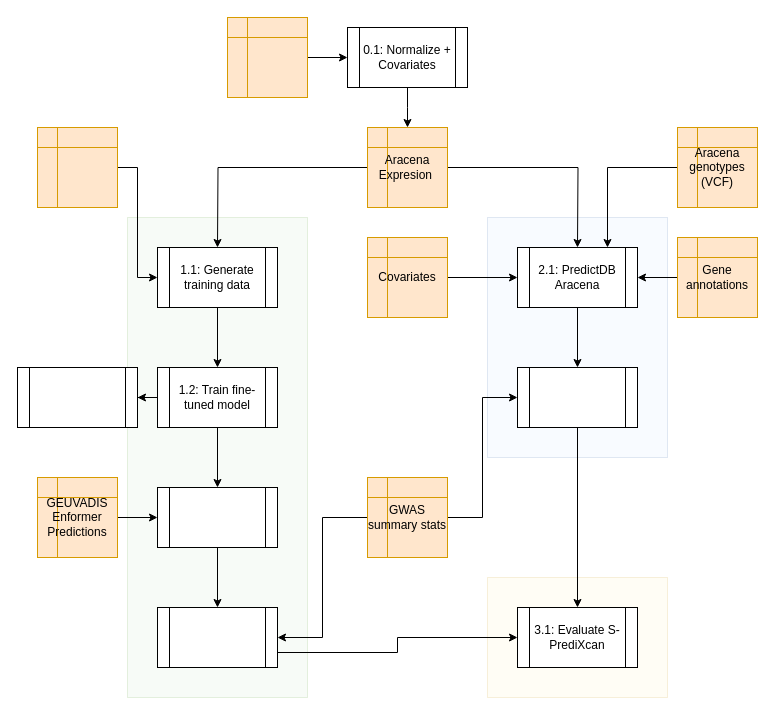
Some shapes in this 775 by 715 pixel diagram are drawn without their labels. Here are the shapes that lost their labels. From the top down, the centre of each, then its label:
At point (267, 57): "Raw Aracena Expresion".
At point (77, 167): "Enformer Ref Database".
At point (77, 397): "1.3: Evaluate fine-tuned model".
At point (577, 397): "2.2: S-PrediXcan".
At point (217, 517): "1.4: Linearize fine-tuned model".
At point (217, 637): "1.5: S-PrediXcan fine-tuned".
